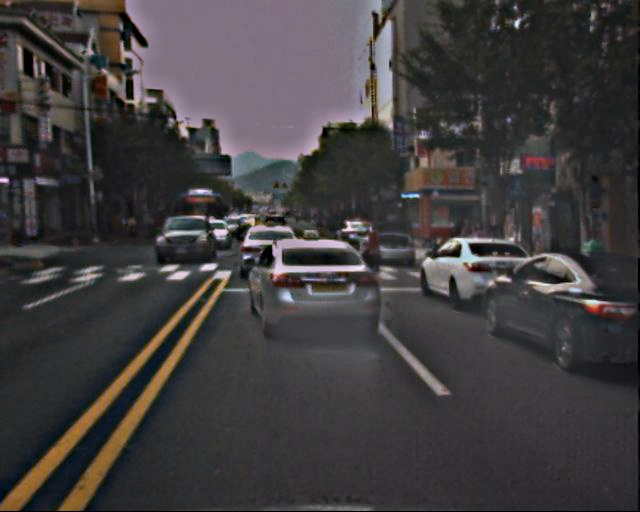person: (362, 222, 383, 274)
